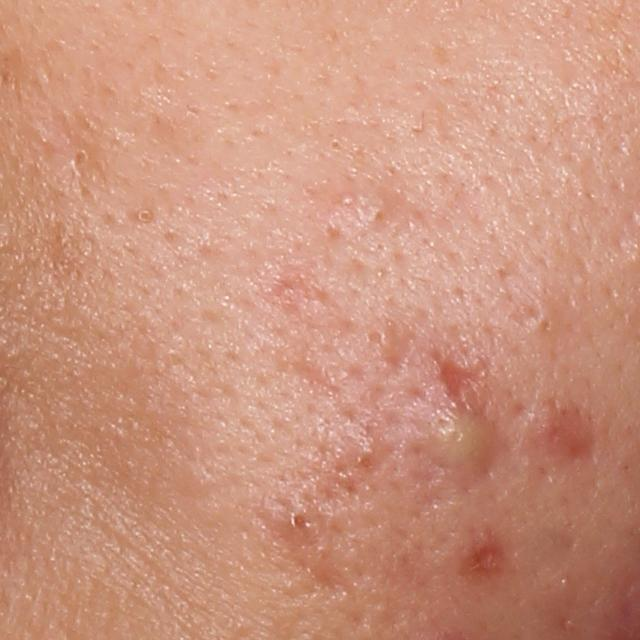atrophic_scar: (255, 513, 342, 590), (273, 353, 345, 400), (431, 345, 485, 406)
comedo: (352, 314, 400, 360), (65, 146, 91, 174), (134, 205, 156, 225), (338, 193, 355, 210), (329, 137, 341, 152)
